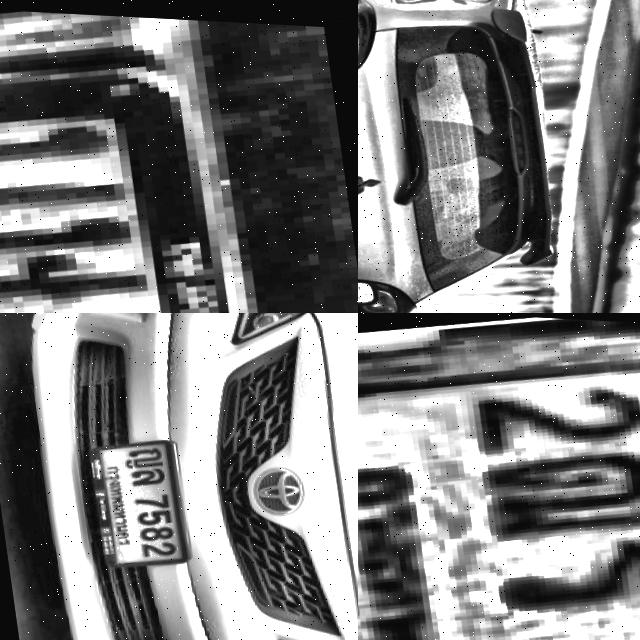license-plate: (0, 11, 350, 313), (358, 313, 640, 640), (80, 430, 197, 574)
